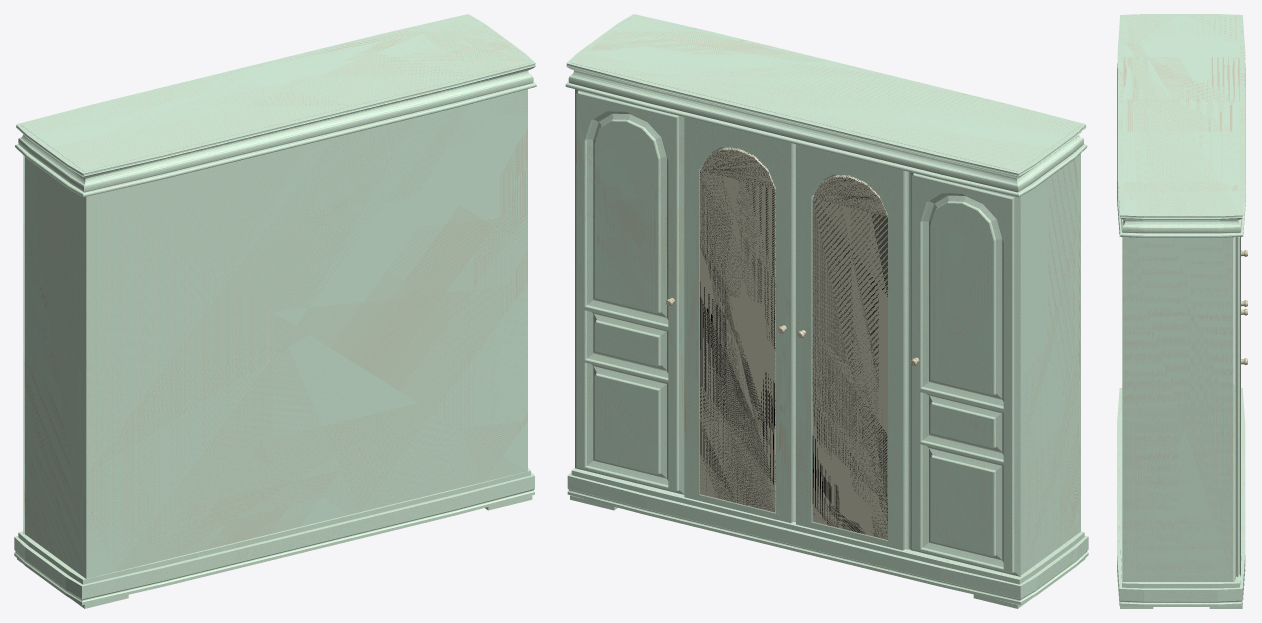
3 views of the same model, side by side, from view 1: azimuth 30°, elevation 25°; view 2: azimuth 150°, elevation 25°; view 3: azimuth 270°, elevation 25° (orthographic). The views are drawn at different scales.
Parts seen in each view (by area): view 1: mesh2_mesh2-geometry, mesh3_mesh3-geometry, mesh4_mesh4-geometry, mesh1_mesh1-geometry, mesh10_mesh10-geometry; view 2: mesh3_mesh3-geometry, mesh15_mesh15-geometry, mesh16_mesh16-geometry, mesh2_mesh2-geometry, mesh10_mesh10-geometry, mesh14_mesh14-geometry, mesh5_mesh5-geometry, mesh6_mesh6-geometry, mesh4_mesh4-geometry, mesh1_mesh1-geometry, mesh9_mesh9-geometry, mesh13_mesh13-geometry (+4 smaller); view 3: mesh2_mesh2-geometry, mesh3_mesh3-geometry, mesh4_mesh4-geometry, mesh1_mesh1-geometry, mesh14_mesh14-geometry.
Boxes of the visible parts, x1=… form: mesh2_mesh2-geometry: x1=25, y1=89, x2=527, y2=578; mesh3_mesh3-geometry: x1=21, y1=16, x2=530, y2=171; mesh4_mesh4-geometry: x1=15, y1=14, x2=536, y2=197; mesh1_mesh1-geometry: x1=14, y1=468, x2=534, y2=605; mesh10_mesh10-geometry: x1=23, y1=155, x2=24, y2=534; mesh3_mesh3-geometry: x1=571, y1=16, x2=1080, y2=171; mesh15_mesh15-geometry: x1=700, y1=147, x2=775, y2=512; mesh16_mesh16-geometry: x1=812, y1=175, x2=887, y2=539; mesh2_mesh2-geometry: x1=593, y1=148, x2=1080, y2=575; mesh10_mesh10-geometry: x1=910, y1=172, x2=1020, y2=576; mesh14_mesh14-geometry: x1=575, y1=89, x2=684, y2=494; mesh5_mesh5-geometry: x1=796, y1=144, x2=908, y2=550; mesh6_mesh6-geometry: x1=684, y1=117, x2=795, y2=523; mesh4_mesh4-geometry: x1=565, y1=14, x2=1087, y2=197; mesh1_mesh1-geometry: x1=567, y1=468, x2=1088, y2=604; mesh9_mesh9-geometry: x1=929, y1=195, x2=1002, y2=398; mesh13_mesh13-geometry: x1=593, y1=113, x2=666, y2=317; mesh2_mesh2-geometry: x1=1122, y1=237, x2=1233, y2=581; mesh3_mesh3-geometry: x1=1123, y1=16, x2=1239, y2=213; mesh4_mesh4-geometry: x1=1117, y1=14, x2=1245, y2=237; mesh1_mesh1-geometry: x1=1117, y1=385, x2=1245, y2=606; mesh14_mesh14-geometry: x1=1234, y1=237, x2=1240, y2=582.
Bounding box in the file's own units: 0.7267 × 0.6579 × 0.1976.
